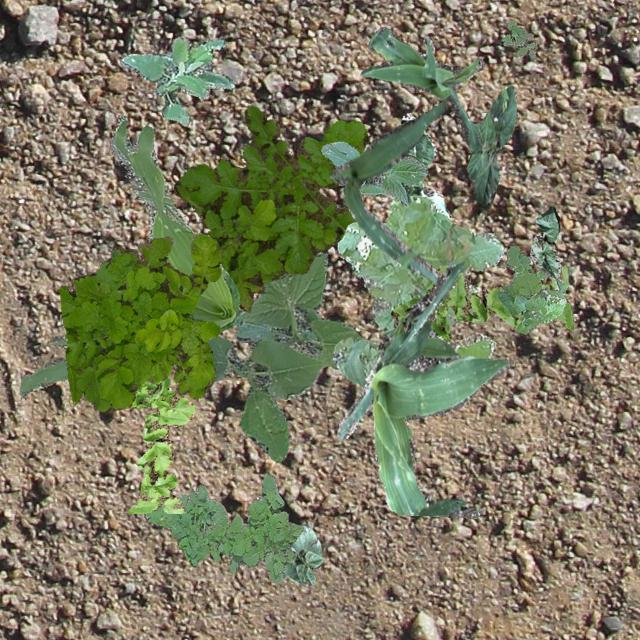crop: (334, 260, 508, 518), (328, 100, 446, 284), (361, 27, 484, 152), (319, 140, 426, 203), (466, 84, 516, 204), (398, 112, 448, 218), (282, 522, 324, 584), (528, 206, 560, 278)
weed: (18, 114, 240, 396), (174, 105, 366, 312), (332, 194, 502, 386), (207, 252, 361, 462), (58, 232, 222, 412), (144, 472, 302, 582), (390, 264, 572, 340), (120, 36, 232, 124), (128, 376, 195, 512), (494, 245, 564, 332), (500, 20, 536, 58)
